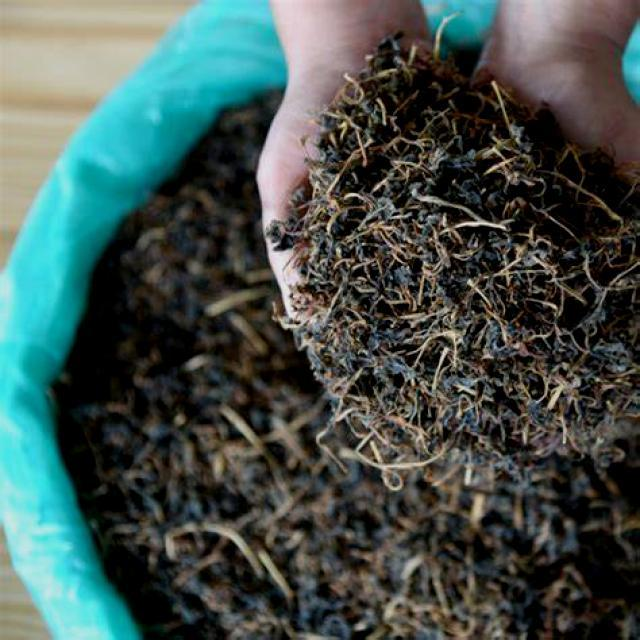NA: (317, 43, 640, 463), (361, 484, 591, 640)
